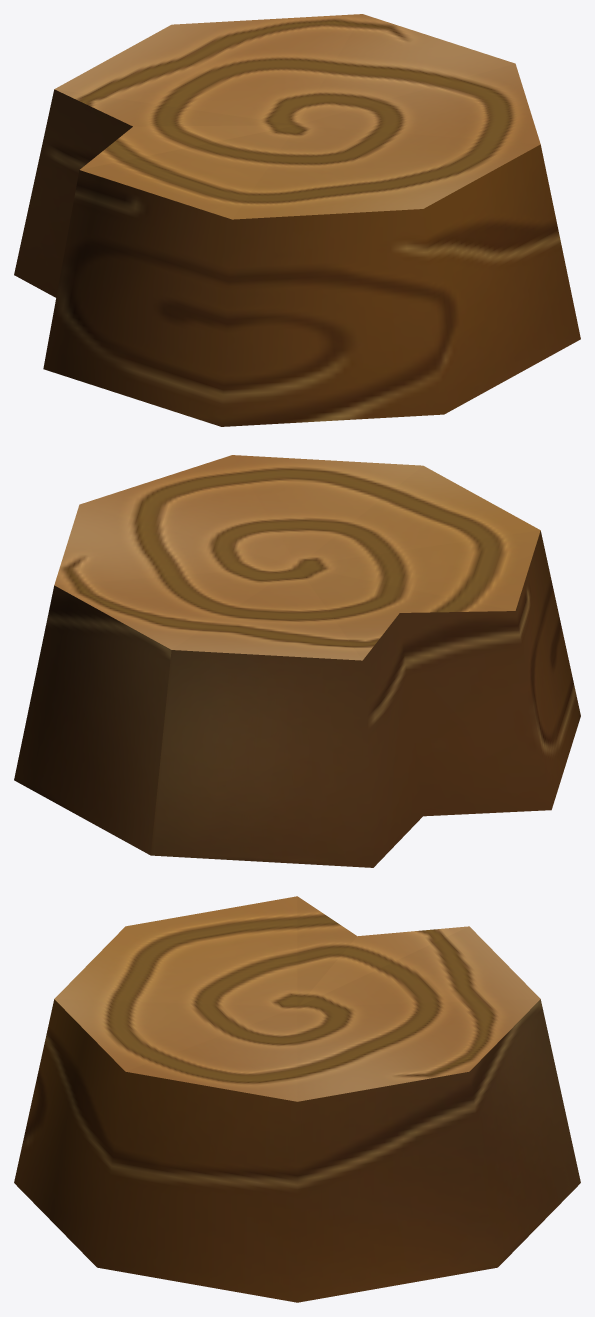
File: Tree_05.FBX
The picture shows the model from 3 angles, top to bottom: view 1: azimuth 30°, elevation 25°; view 2: azimuth 150°, elevation 25°; view 3: azimuth 270°, elevation 25°; orthographic projection. The views are drawn at different scales.
Parts seen in each view (by area): view 1: tree_05; view 2: tree_05; view 3: tree_05.
Part boxes in pixels (<box>): tree_05: <box>14,14,580,426</box>; tree_05: <box>14,455,580,867</box>; tree_05: <box>14,896,580,1302</box>.
Size of the model in its own units: 41.86 by 14.98 by 41.86.
